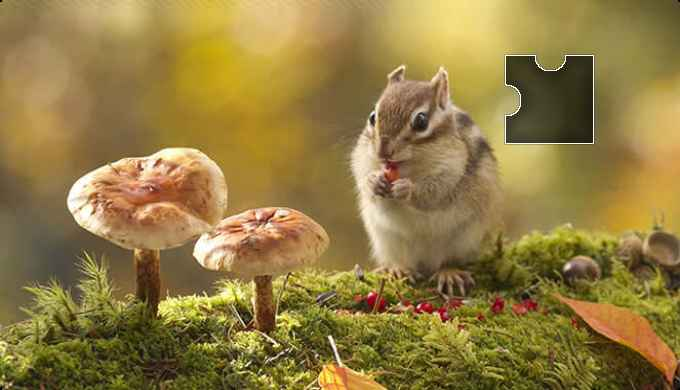gap: (503, 54, 596, 146)
